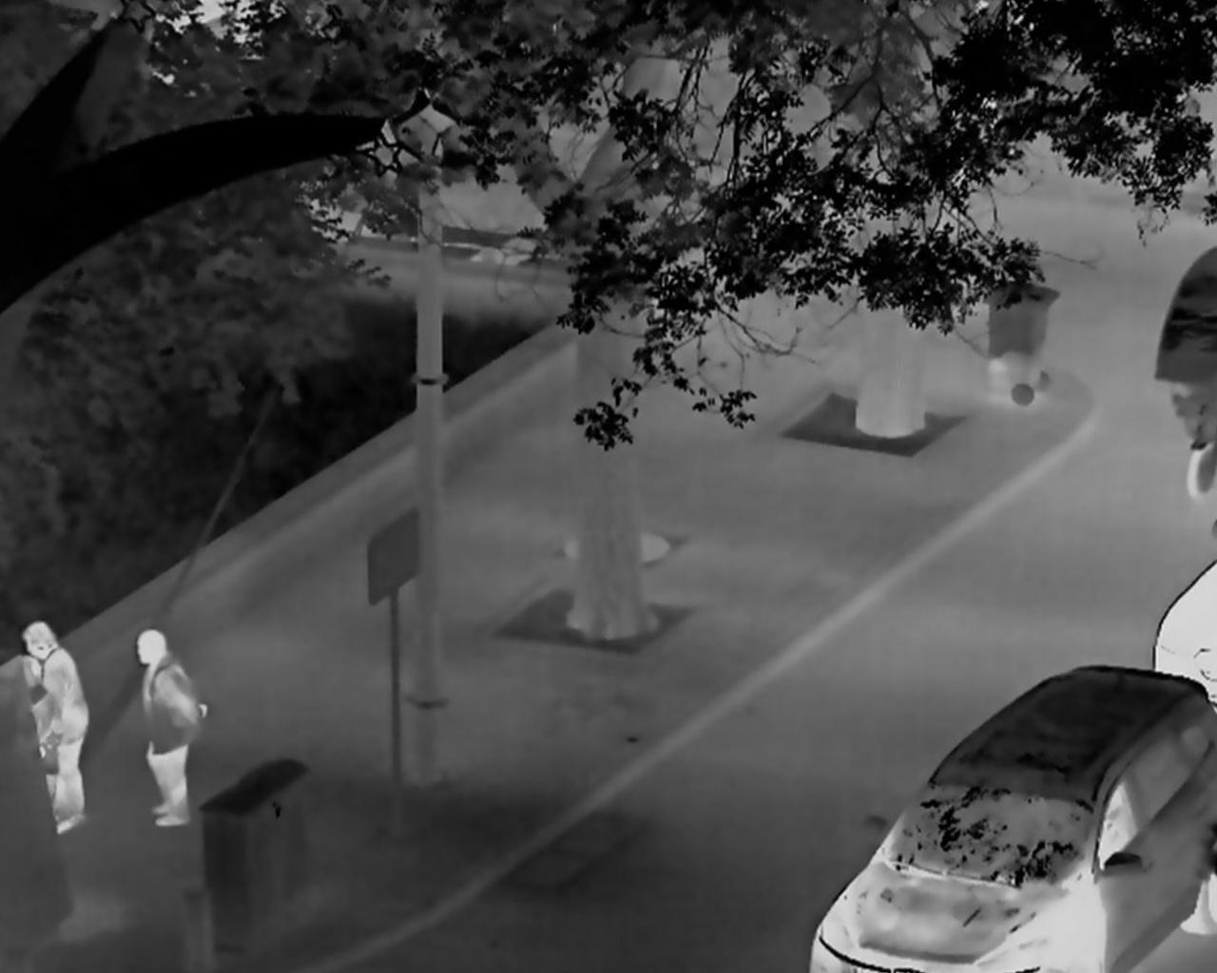person: (133, 627, 211, 830), (19, 618, 91, 836), (15, 655, 61, 830)
